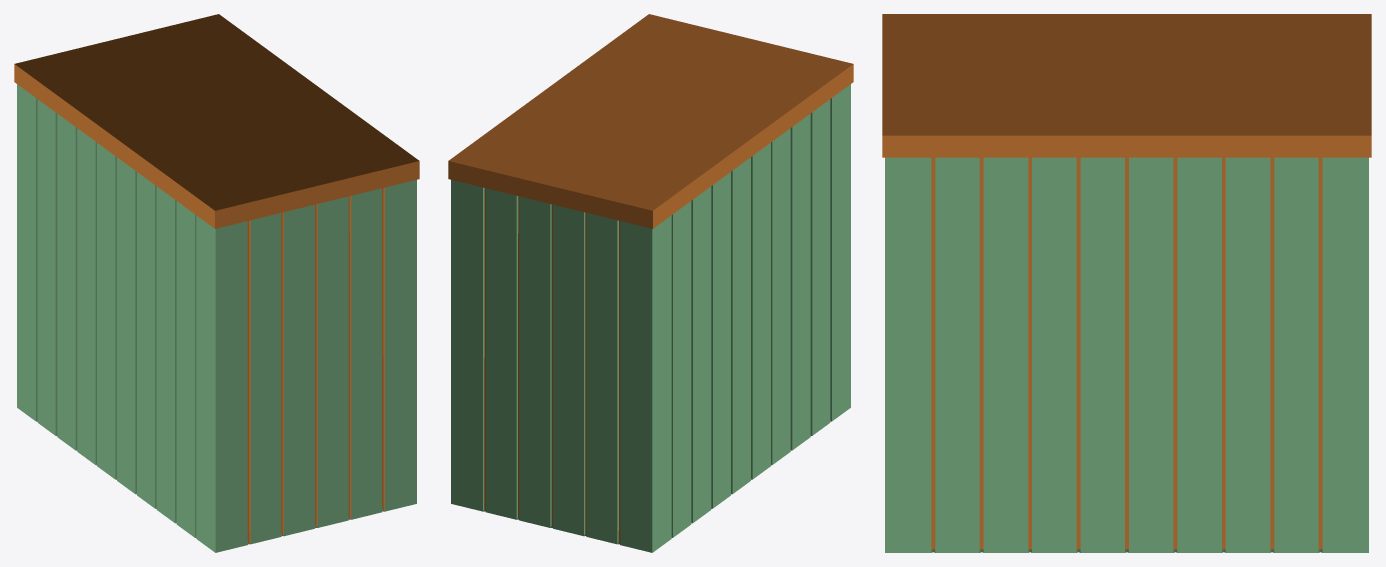
Rendered from Bar Counter.fbx.
3 views of the same model, side by side, from view 1: azimuth 30°, elevation 25°; view 2: azimuth 150°, elevation 25°; view 3: azimuth 270°, elevation 25° (orthographic). The views are drawn at different scales.
Parts seen in each view (by area): view 1: Node 0; view 2: Node 0; view 3: Node 0.
Boxes of the visible parts, x1,y1,x2,y2 form: Node 0: (14,14,419,552); Node 0: (448,14,853,552); Node 0: (882,14,1371,552).
Size of the model in its own units: 0.889 by 0.8386 by 0.523.
